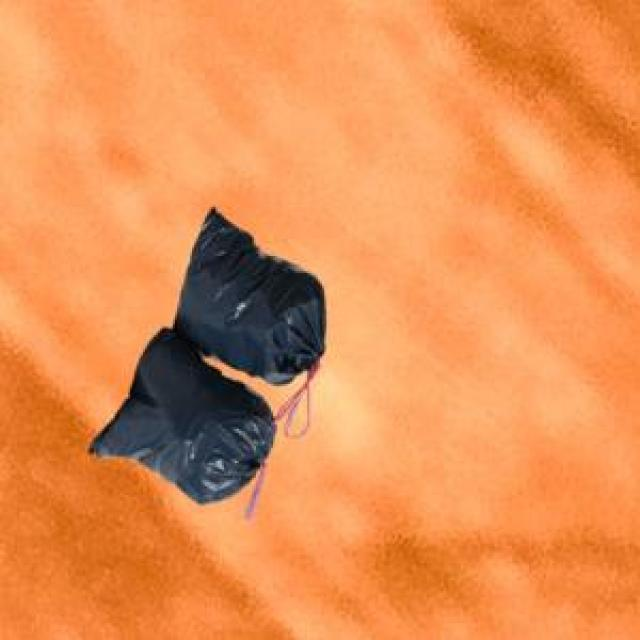waste: (90, 209, 326, 502)
